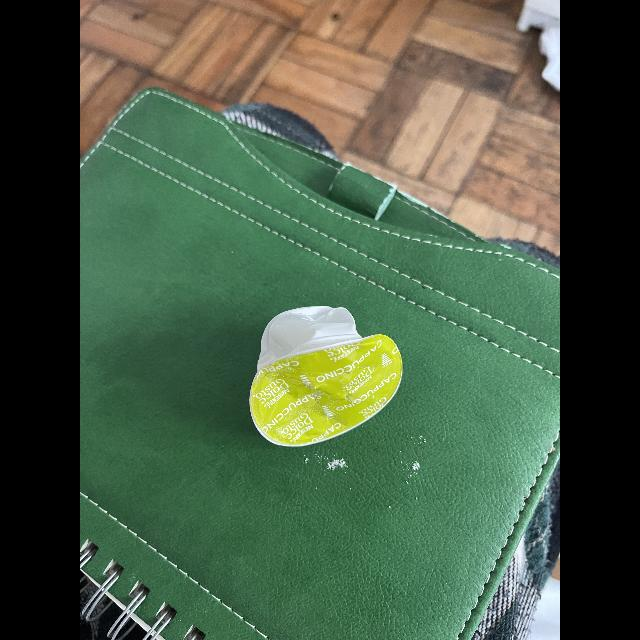damaged_capsule: (233, 302, 412, 450)
